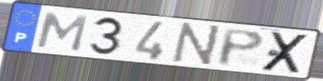3: (86, 15, 127, 58)
4: (132, 19, 167, 62)
M: (34, 11, 90, 54)
N: (169, 21, 224, 69)
P: (216, 27, 267, 69)
X: (258, 31, 313, 75)
